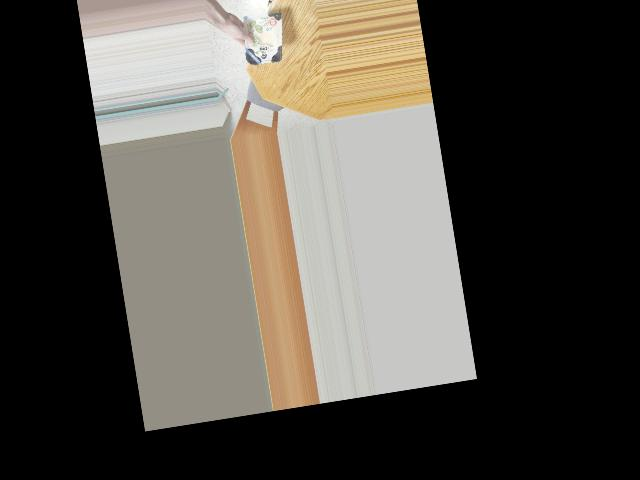cheese: (235, 2, 283, 73)
